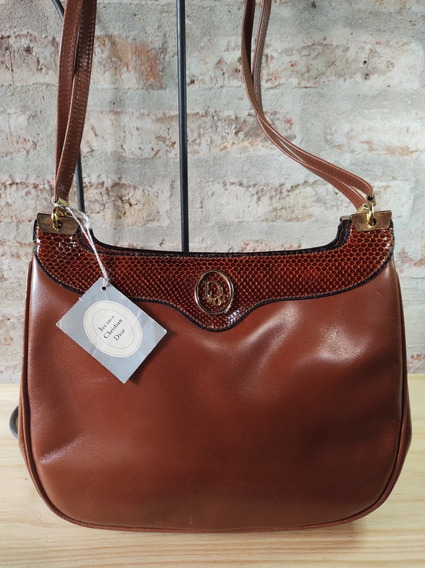cartera: (21, 2, 416, 533)
